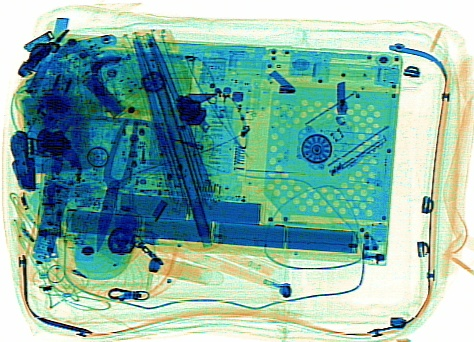scissors: (80, 114, 164, 252)
